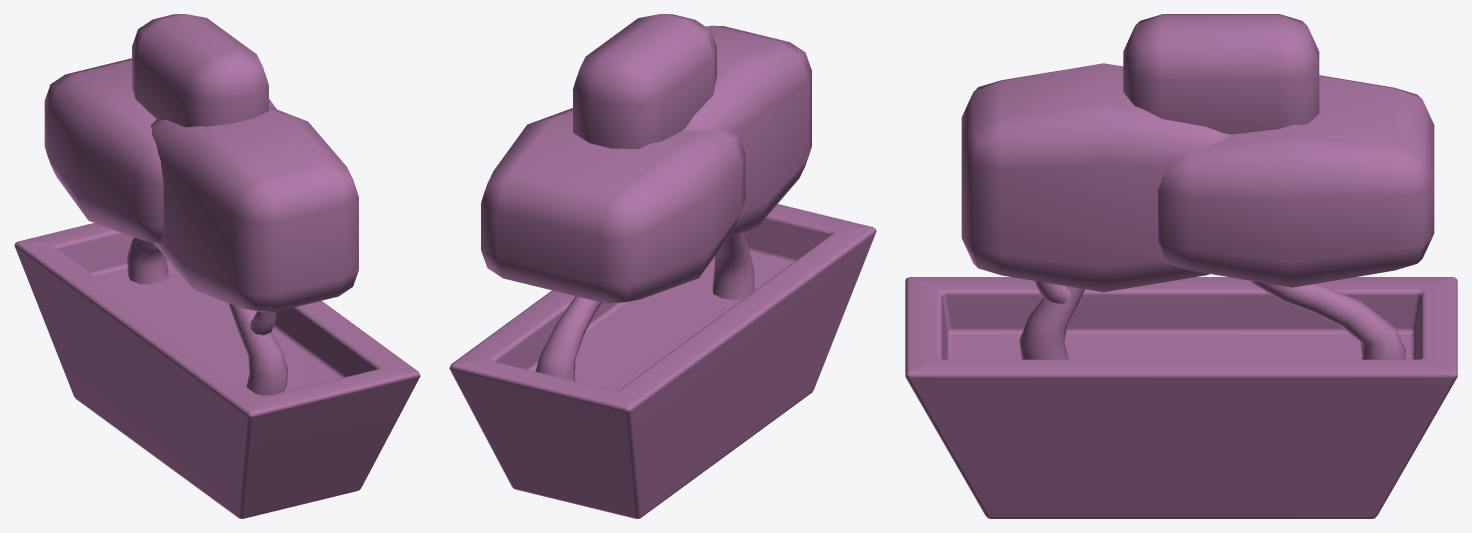
Rendered from SM_Planter.fbx.
3 renders of one model, left to right at view 1: azimuth 30°, elevation 25°; view 2: azimuth 150°, elevation 25°; view 3: azimuth 270°, elevation 25°, orthographic. The views are drawn at different scales.
Parts seen in each view (by area): view 1: SM_Planter; view 2: SM_Planter; view 3: SM_Planter.
Part boxes in pixels (left/top/right/bottom): SM_Planter: left=14, top=14, right=420, bottom=518; SM_Planter: left=449, top=14, right=876, bottom=518; SM_Planter: left=905, top=14, right=1457, bottom=518.
Size of the model in its own units: 105 by 218 by 235.
